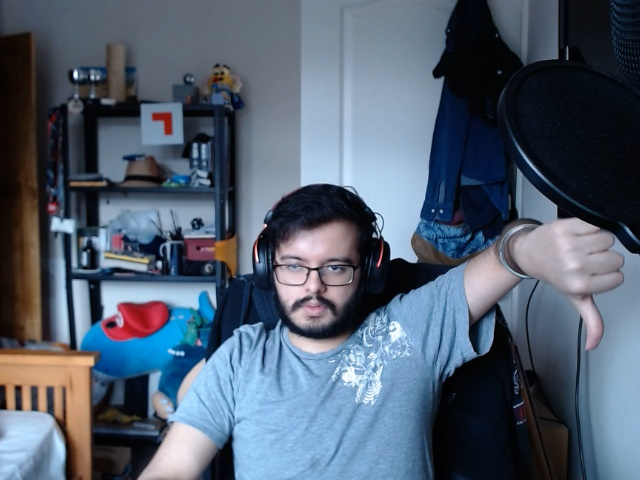Thumbs down: (549, 209, 622, 358)
